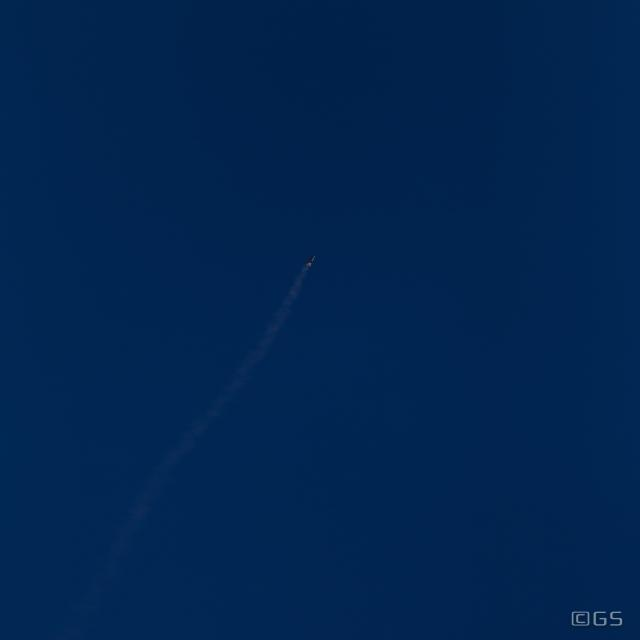Rocket: (303, 253, 316, 267)
